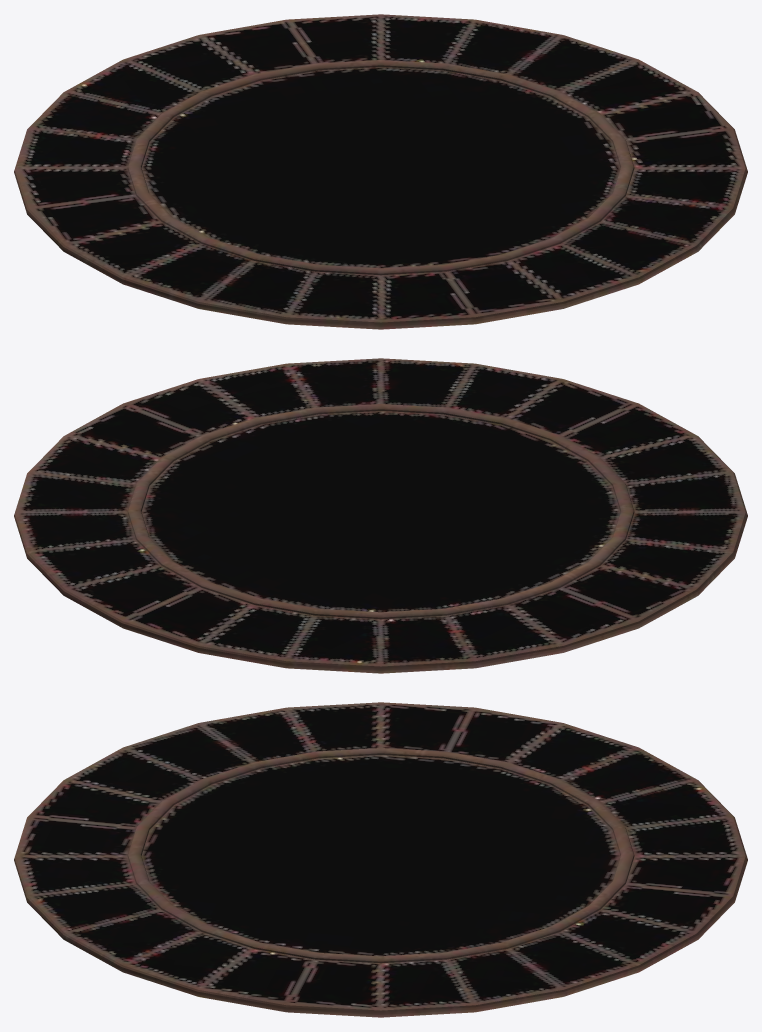
The picture shows the model from 3 angles, top to bottom: view 1: azimuth 30°, elevation 25°; view 2: azimuth 150°, elevation 25°; view 3: azimuth 270°, elevation 25°; orthographic projection.
Visible parts, largest first — view 1: body0_model0_lod0_mesh0; view 2: body0_model0_lod0_mesh0; view 3: body0_model0_lod0_mesh0.
Part boxes in pixels (x1,y1,x2,y2): body0_model0_lod0_mesh0: (14, 14, 747, 329); body0_model0_lod0_mesh0: (14, 358, 747, 673); body0_model0_lod0_mesh0: (14, 702, 747, 1017).
Bounding box in the file's own units: 377 × 5.7 × 377.
1 material, 1 textured.
